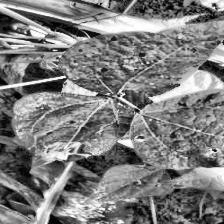ALS: (50, 17, 224, 94), (17, 96, 130, 174), (145, 91, 224, 163)
